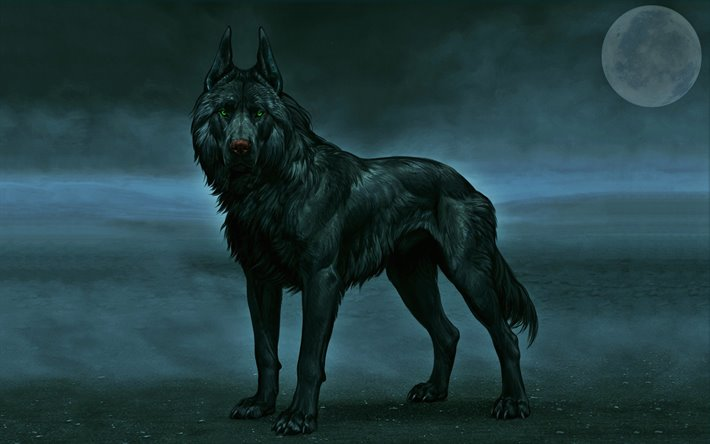Lobo: (169, 23, 535, 420)
